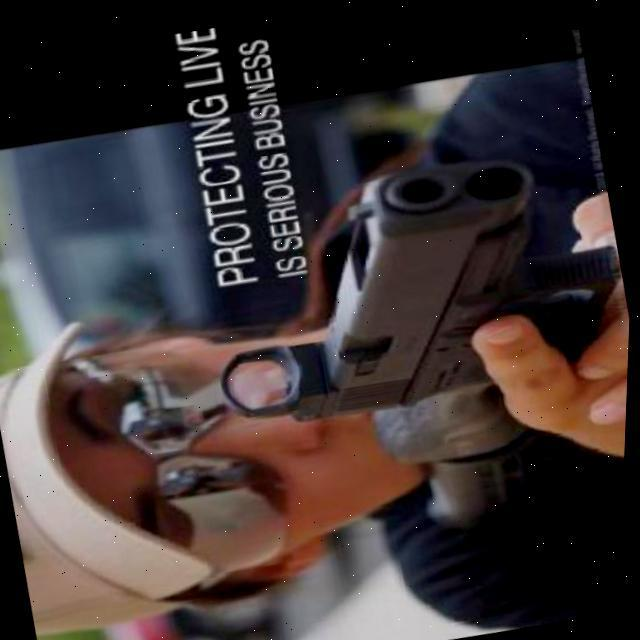gun: (175, 114, 637, 445)
